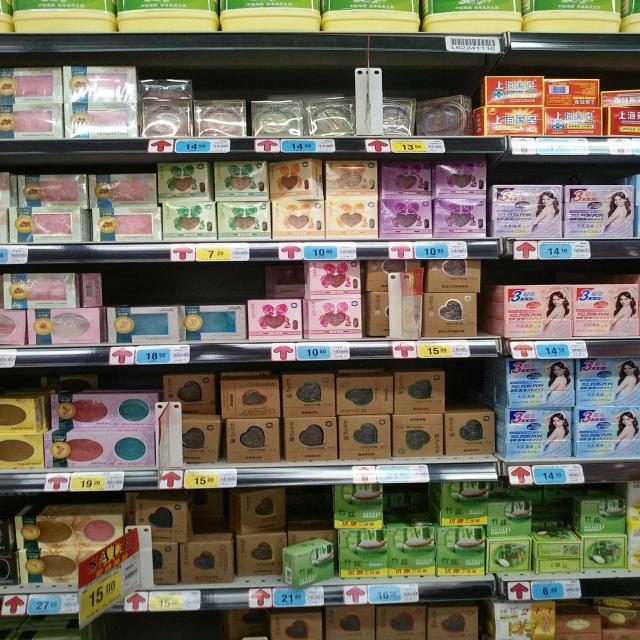unorganised: (49, 392, 156, 431), (101, 307, 182, 346), (7, 208, 93, 243), (279, 537, 337, 586), (13, 173, 89, 209), (301, 300, 367, 341), (385, 270, 423, 340), (179, 304, 247, 343), (130, 501, 190, 543), (231, 489, 287, 534), (220, 379, 281, 420), (414, 96, 475, 136), (268, 155, 322, 199), (155, 160, 214, 200), (334, 376, 394, 415), (89, 173, 159, 206), (304, 260, 364, 298), (333, 484, 383, 528), (235, 538, 282, 583), (163, 376, 214, 417), (483, 74, 547, 105), (379, 158, 432, 195), (532, 488, 575, 533), (183, 419, 225, 464), (543, 78, 602, 106), (594, 595, 640, 628), (1, 397, 40, 432), (78, 270, 104, 308), (601, 89, 640, 106)
